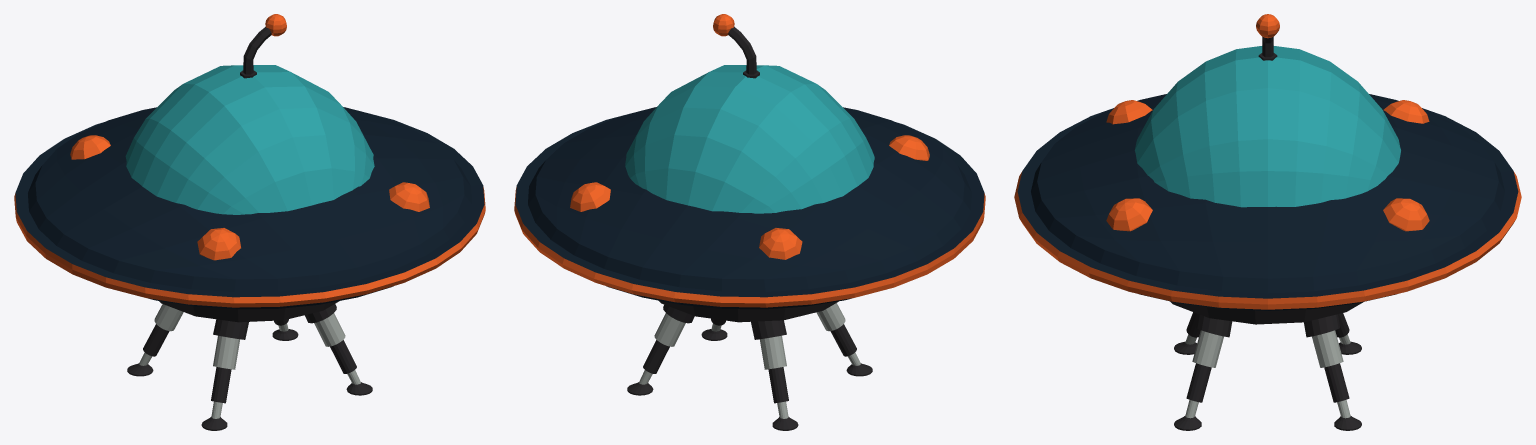
Rendered from UFO.fbx.
The picture shows the model from 3 angles, left to right: view 1: azimuth 30°, elevation 25°; view 2: azimuth 150°, elevation 25°; view 3: azimuth 270°, elevation 25°; orthographic projection. The views are drawn at different scales.
Visible parts, largest first — view 1: Cylinder.007, Object018, Object017, Object019, Object020, Object022; view 2: Cylinder.007, Object018, Object017, Object019, Object020, Object022; view 3: Cylinder.007, Object018, Object017, Object019, Object020, Object022.
Boxes of the visible parts, bbox=[...] form: Cylinder.007: bbox=[15, 107, 484, 309]; Object018: bbox=[125, 65, 374, 214]; Object017: bbox=[14, 14, 485, 307]; Object019: bbox=[127, 304, 372, 430]; Object020: bbox=[159, 26, 339, 322]; Object022: bbox=[139, 304, 360, 418]; Cylinder.007: bbox=[515, 107, 984, 309]; Object018: bbox=[625, 65, 874, 213]; Object017: bbox=[514, 14, 985, 307]; Object019: bbox=[627, 304, 872, 430]; Object020: bbox=[659, 26, 838, 322]; Object022: bbox=[639, 303, 860, 418]; Cylinder.007: bbox=[1017, 94, 1518, 310]; Object018: bbox=[1134, 46, 1400, 207]; Object017: bbox=[1014, 14, 1521, 309]; Object019: bbox=[1174, 312, 1361, 430]; Object020: bbox=[1170, 37, 1363, 324]; Object022: bbox=[1185, 330, 1350, 418].
Bounding box in the file's own units: 417 × 350 × 417.
